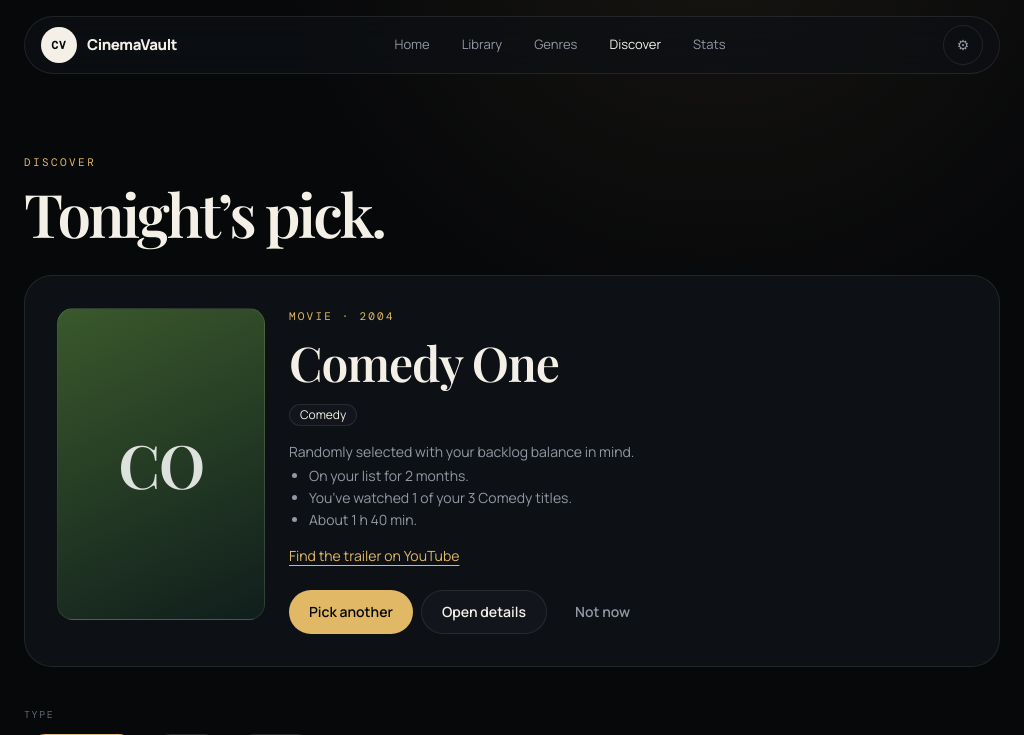
Test case: the suggestion › explains why, and opens the title’s details
Expected: the text "Randomly selected with your backlog balance in mind." is shown, [289,442,634,461]
Click the link "Open details" at (484, 612), box [421,590,547,634]
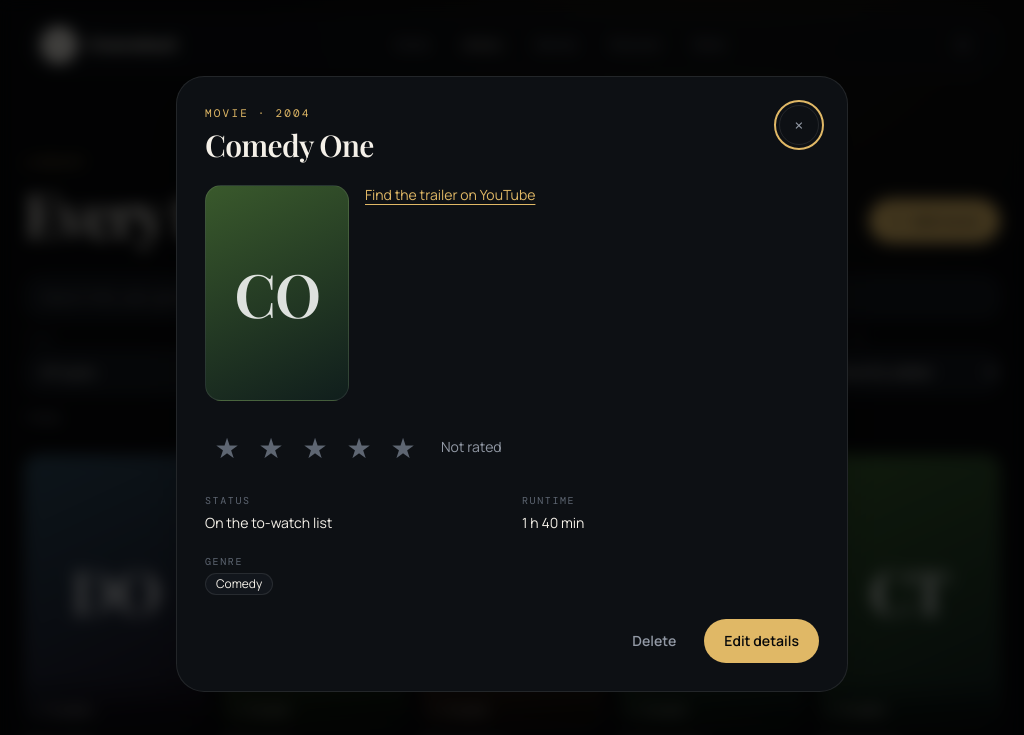
Expected: the dialog is shown, [176,76,848,692]
